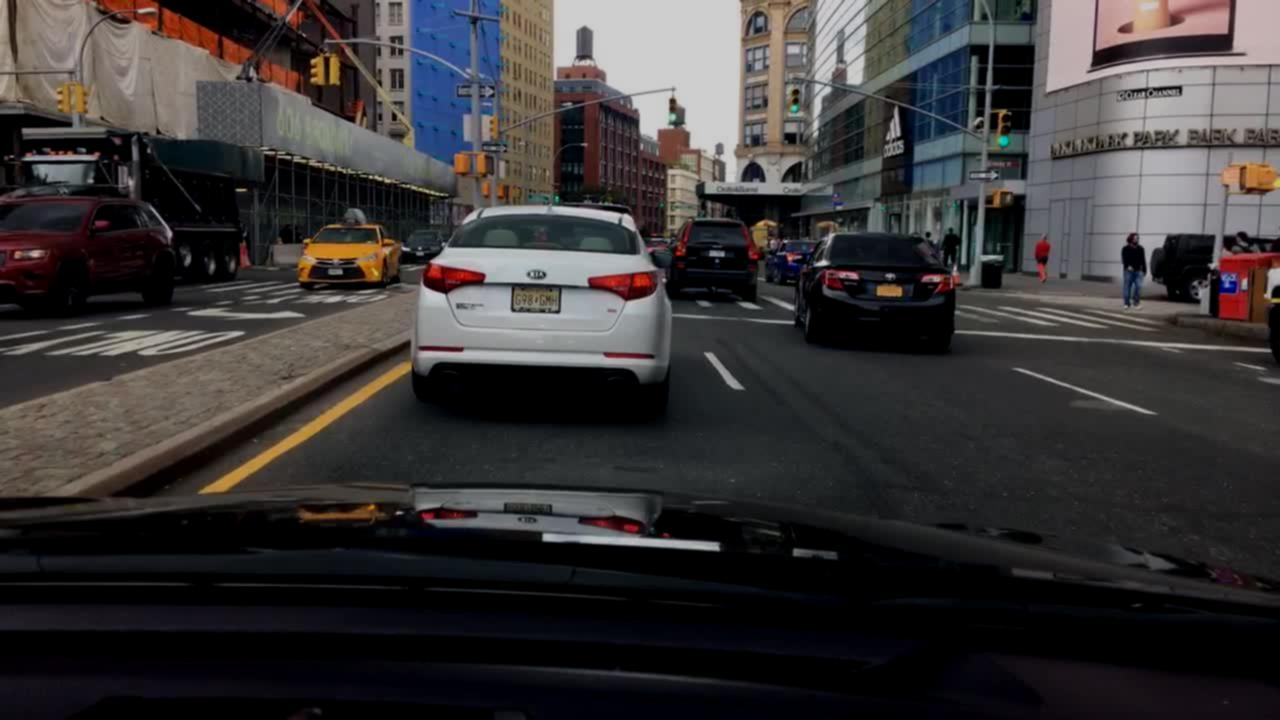Toyota: (882, 271, 900, 284)
kia: (520, 264, 550, 286)
